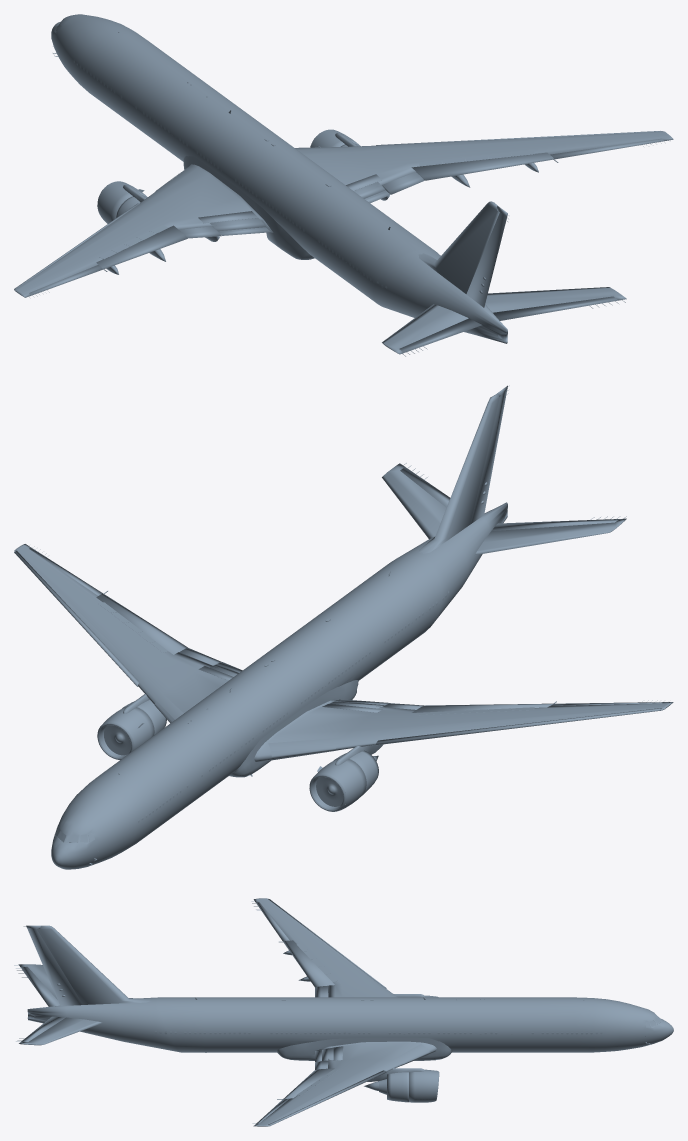
3 views of the same model, one above another, from view 1: azimuth 30°, elevation 25°; view 2: azimuth 150°, elevation 25°; view 3: azimuth 270°, elevation 25° (orthographic). The views are drawn at different scales.
Bounding box in the file's own units: 60.72 × 17.22 × 74.38.
